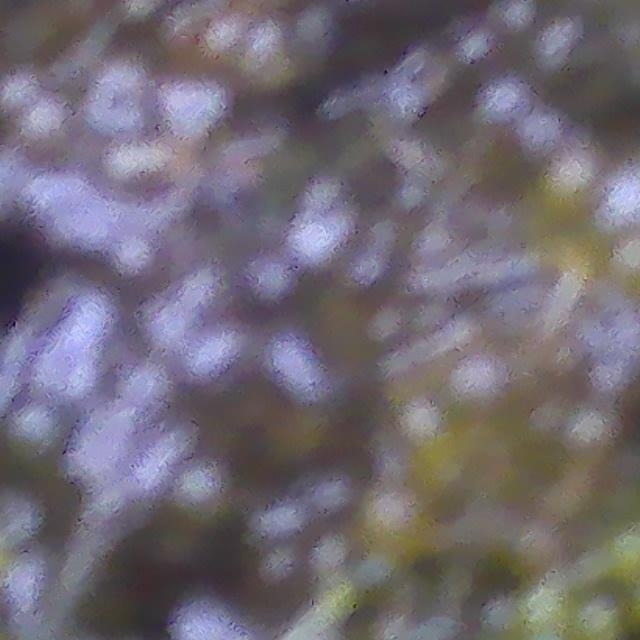SeaGrape: (107, 220, 179, 296), (175, 465, 234, 525)
